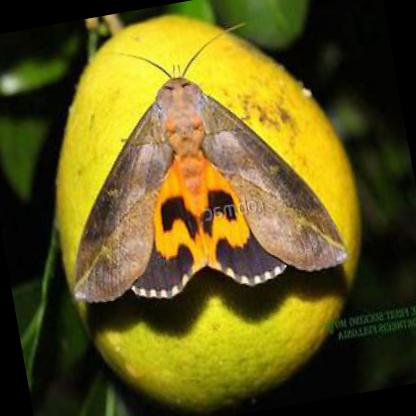fruit sucking moth: (73, 79, 347, 303)
